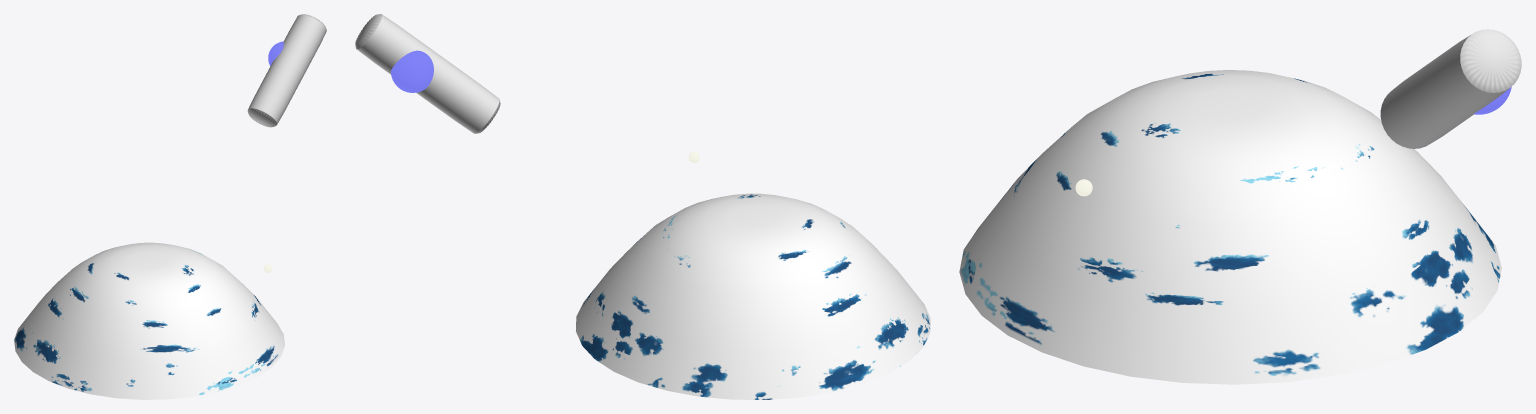
File: sky_v1-0.glb
3 renders of one model, left to right at view 1: azimuth 30°, elevation 25°; view 2: azimuth 150°, elevation 25°; view 3: azimuth 270°, elevation 25°, orthographic. The views are drawn at different scales.
Parts seen in each view (by area): view 1: cloud02, moon_hide; view 2: cloud02, moon_hide, moon; view 3: cloud02, moon_hide.
Part boxes in pixels (<box>): cloud02: <box>14,242,284,399</box>; moon_hide: <box>247,14,326,127</box>; cloud02: <box>576,193,930,399</box>; moon_hide: <box>355,14,500,133</box>; moon: <box>391,50,433,92</box>; cloud02: <box>959,70,1501,384</box>; moon_hide: <box>1380,29,1521,148</box>.
Size of the model in its own units: 144370 by 88325 by 98957.
5 materials, 3 textured.
